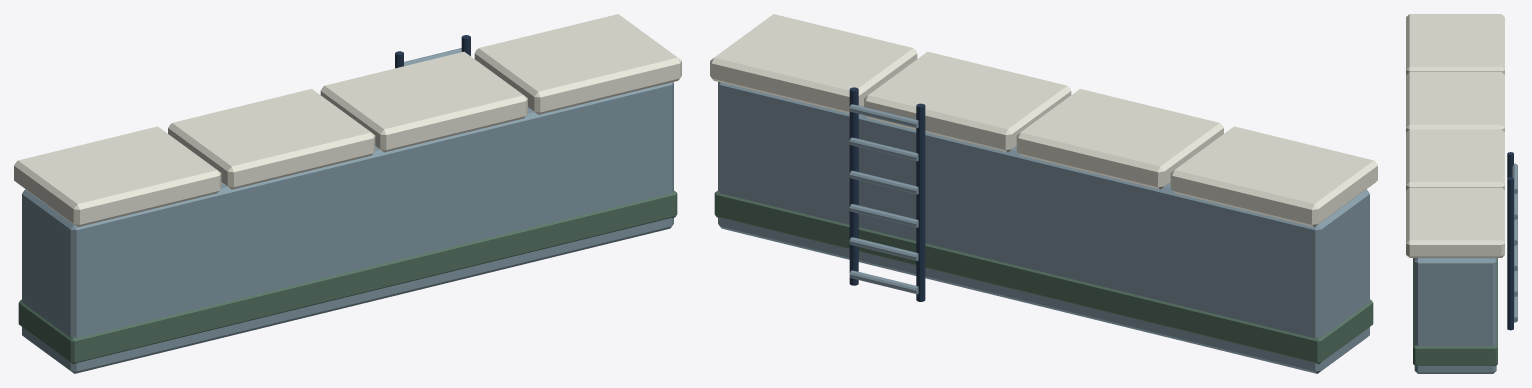
The model's file is harbor_seawall.glb.
3 views of the same model, side by side, from view 1: azimuth 30°, elevation 25°; view 2: azimuth 150°, elevation 25°; view 3: azimuth 270°, elevation 25° (orthographic). The views are drawn at different scales.
Parts seen in each view (by area): view 1: wall, capstone (×4), algae_band; view 2: wall, capstone (×4), algae_band, ladder_rung (×6), ladder_rail (×2); view 3: capstone (×4), wall, algae_band, ladder_rail (×2), ladder_rung.
Boxes of the visible parts, box(x1,y1,x2,y2) form: wall: box(22, 82, 673, 373); capstone (×4): box(14, 14, 681, 227); algae_band: box(18, 190, 677, 364); wall: box(718, 82, 1369, 373); capstone (×4): box(710, 14, 1377, 227); algae_band: box(714, 190, 1373, 364); ladder_rung (×6): box(849, 104, 918, 294); ladder_rail (×2): box(849, 87, 925, 301); capstone (×4): box(1406, 14, 1504, 257); wall: box(1414, 258, 1496, 373); algae_band: box(1413, 258, 1497, 365); ladder_rail (×2): box(1507, 152, 1513, 330); ladder_rung: box(1512, 163, 1517, 194).
Bounding box in the file's own units: 3.83 × 1.17 × 0.7909.
